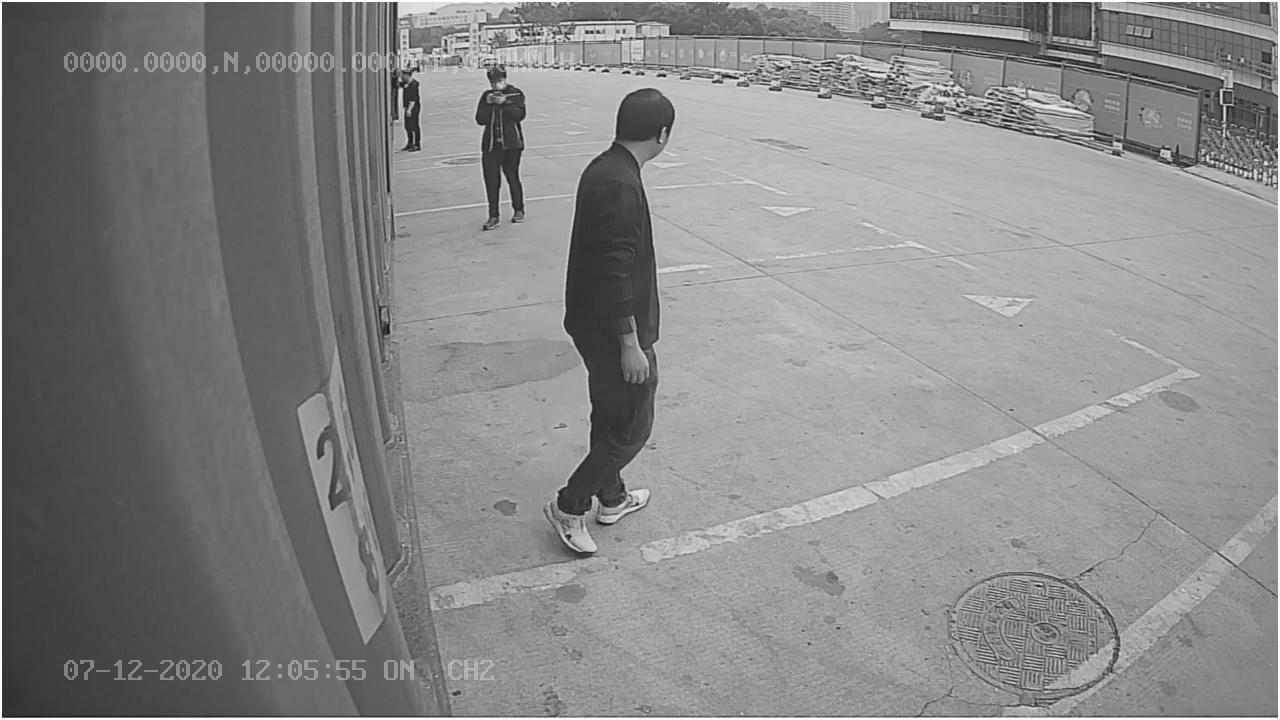person: (545, 87, 685, 557)
